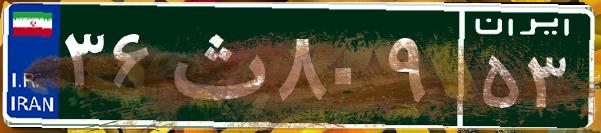0: (330, 28, 385, 110)
3: (57, 26, 110, 107), (525, 38, 570, 115)
5: (475, 38, 525, 113)
6: (110, 28, 158, 105)
8: (273, 28, 330, 110)
9: (385, 28, 445, 110)
ث: (158, 15, 273, 115)
